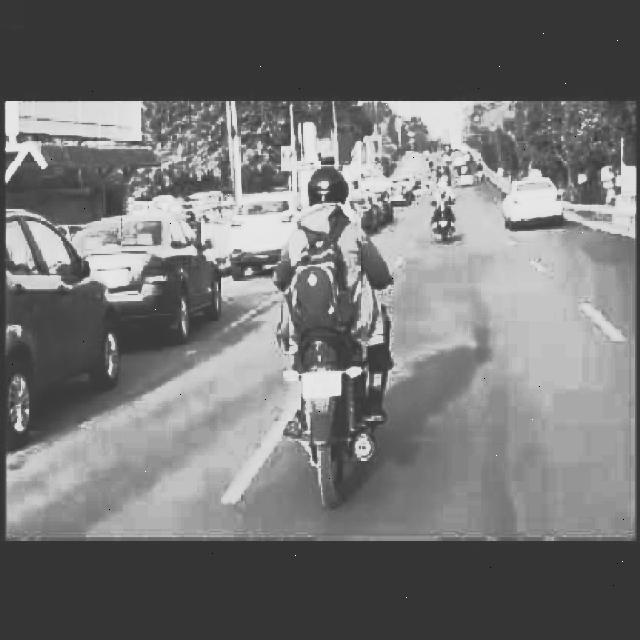Car: (0, 202, 129, 428), (94, 211, 235, 351), (231, 191, 312, 271), (500, 164, 576, 236)
